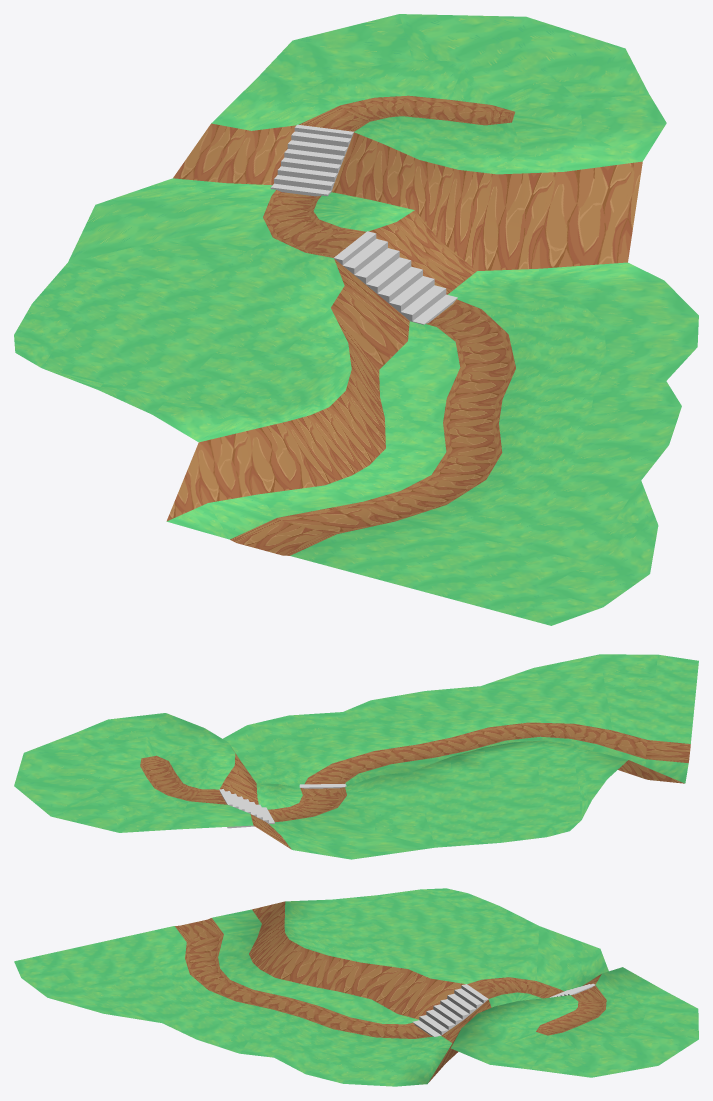
The model's file is terrain.glb.
The picture shows the model from 3 angles, top to bottom: view 1: azimuth 30°, elevation 25°; view 2: azimuth 150°, elevation 25°; view 3: azimuth 270°, elevation 25°; orthographic projection. The views are drawn at different scales.
Parts seen in each view (by area): view 1: terrain.001; view 2: terrain.001; view 3: terrain.001.
Part boxes in pixels (left/top/right/bottom): terrain.001: left=14, top=14, right=698, bottom=625; terrain.001: left=14, top=654, right=698, bottom=859; terrain.001: left=14, top=888, right=698, bottom=1086.
Bounding box in the file's own units: 32.59 × 3.43 × 44.09.
Materials: 2 (2 with a texture image).
